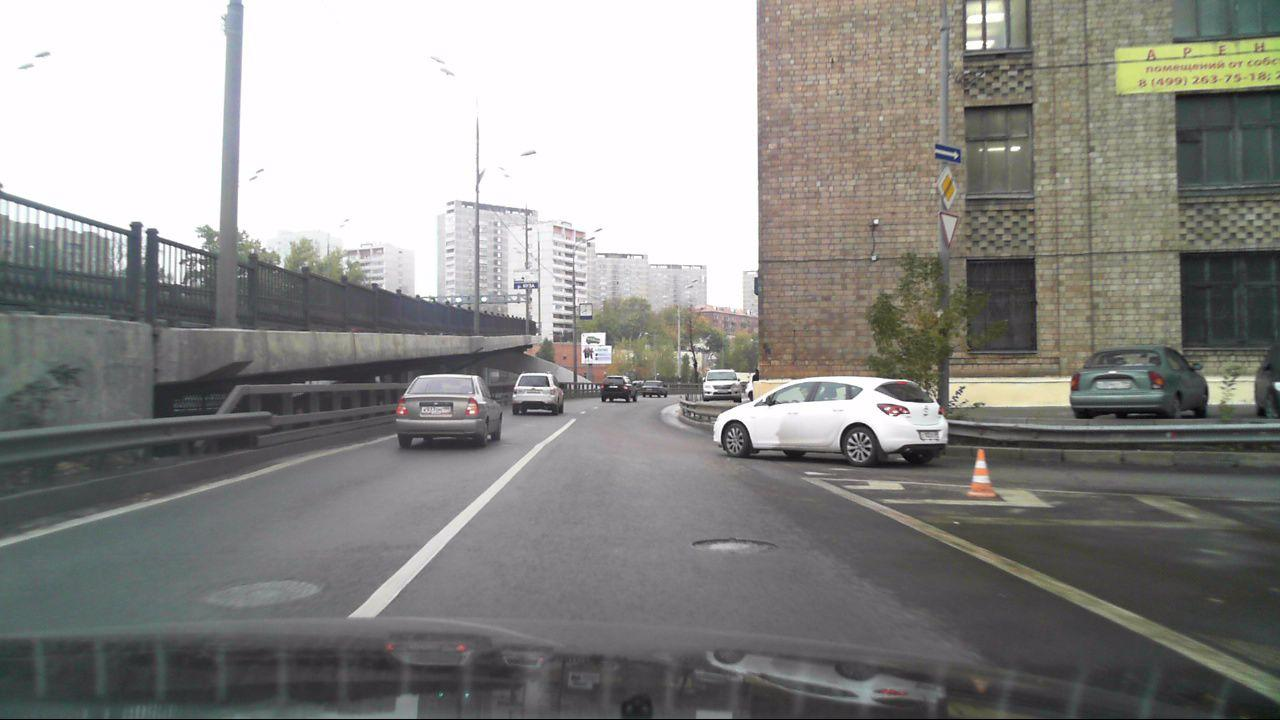2_2: (934, 164, 960, 207)
2_4: (939, 211, 960, 247)
5_7_1: (931, 142, 964, 164)
